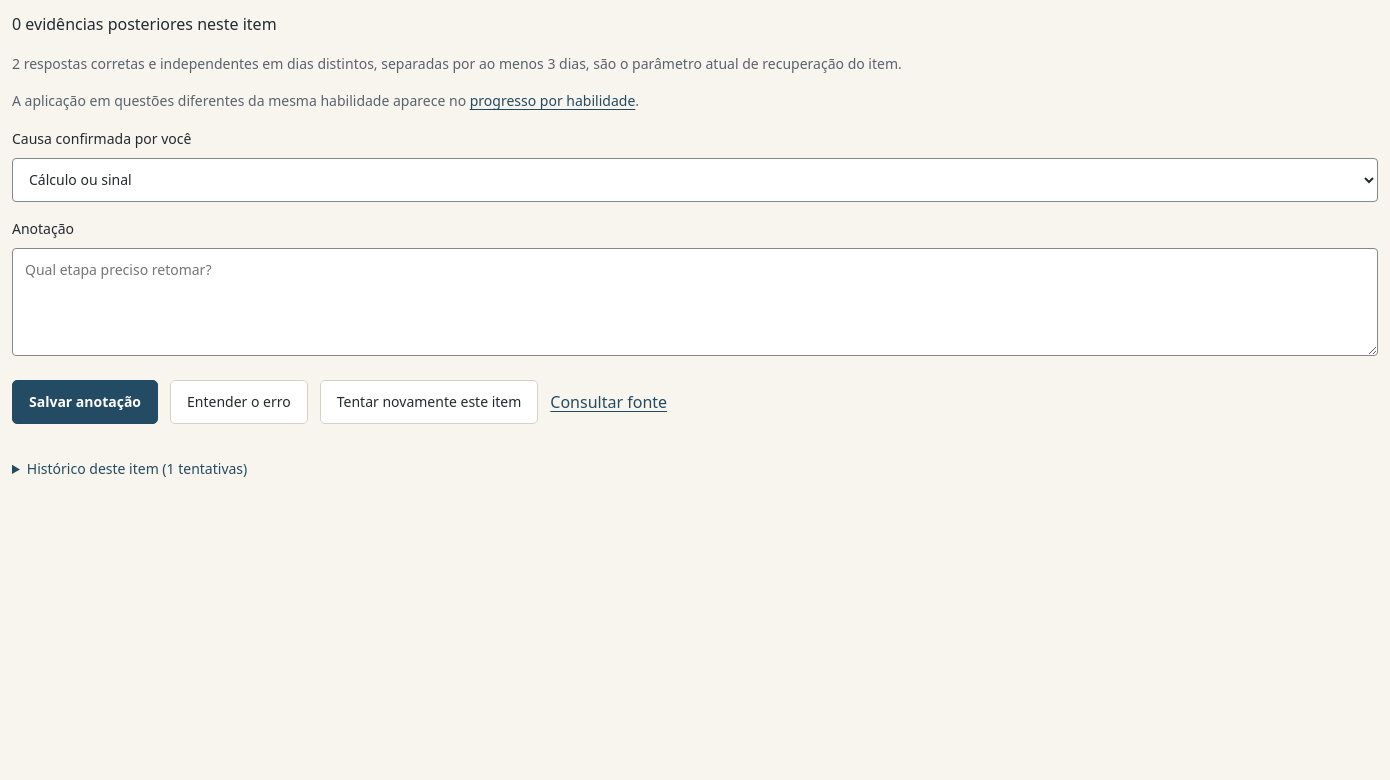
Test: a current snapshot conflict keeps notebook support closed
Click the button "Entender o erro": click(239, 402) [170,380,308,424]
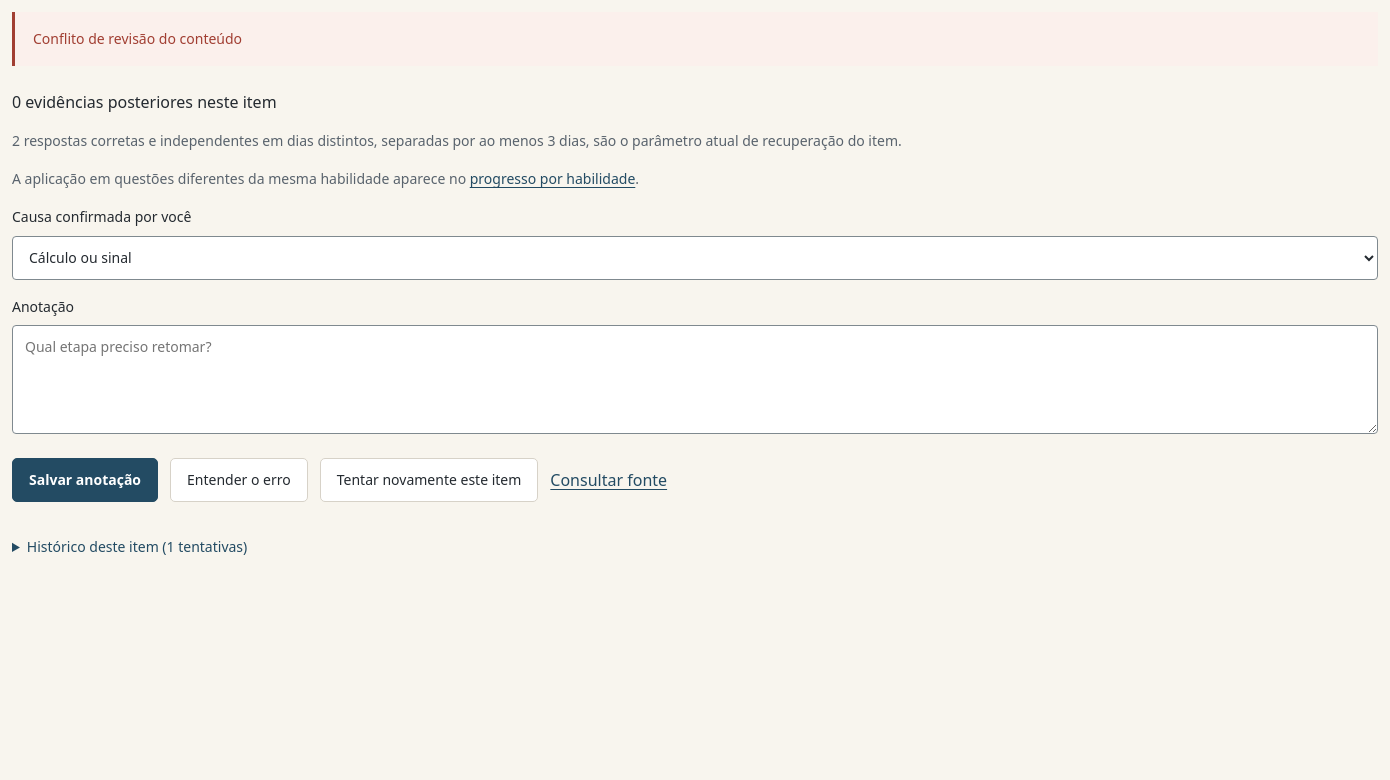
Now the text "Conflito de revisão do conteúdo" is shown, box [12,12,1378,66]
